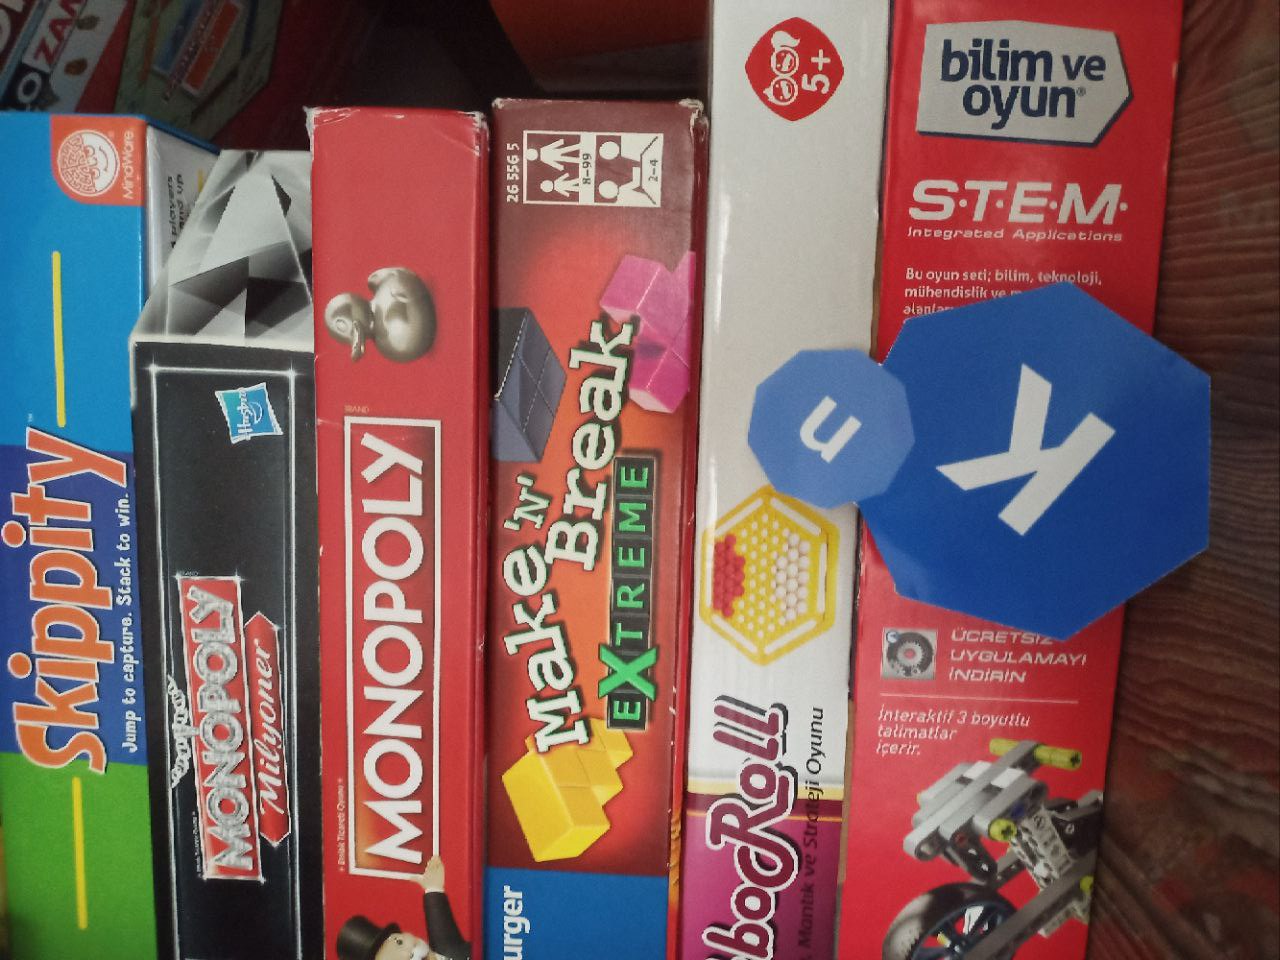knative: (747, 282, 1213, 645)
